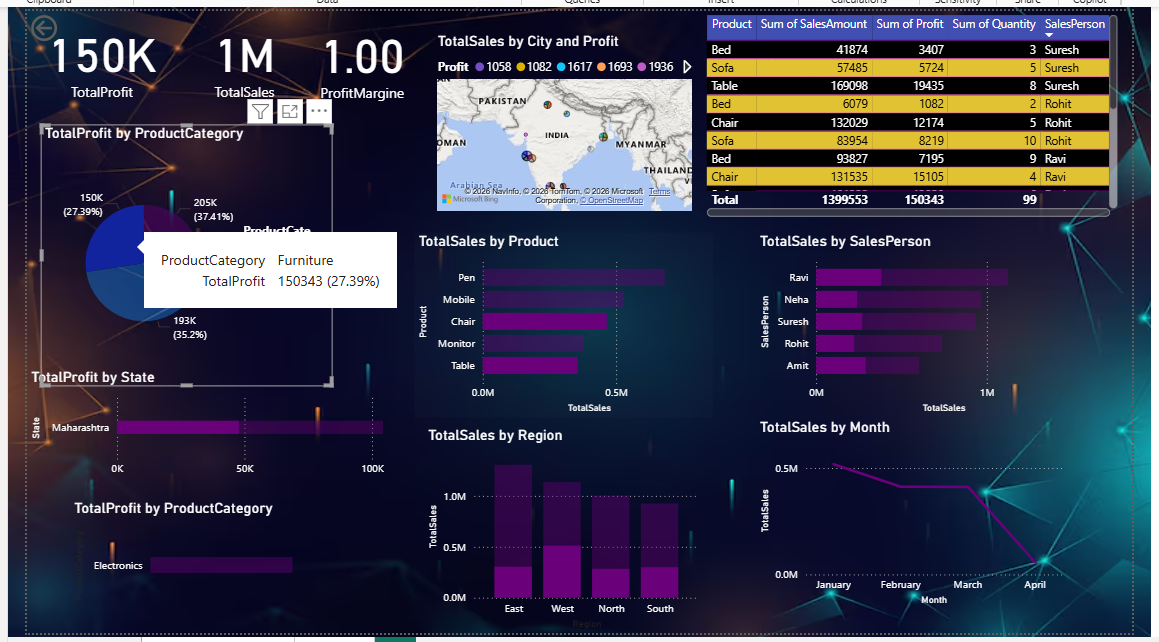

This screenshot's page, from the dashboard's own definition file:
{"tool":"powerbi","page":{"name":"Page 1","canvas":[1280,720],"ordinal":1},"visuals":[{"type":"card","fields":{"Values":["SalesData.TotalProfit"]},"box":[10,0,174.3,110],"z":0},{"type":"card","fields":{"Values":["SalesData.TotalSales"]},"box":[184.3,7.1,134.3,97.1],"z":1000},{"type":"card","fields":{"Values":["SalesData.ProfitMargine"]},"box":[315.7,0,144.3,112.9],"z":2000},{"type":"columnChart","fields":{"Category":["SalesData.Region"],"Y":["SalesData.TotalSales"]},"box":[460,481.4,324.3,238.6],"z":3000},{"type":"barChart","fields":{"Category":["SalesData.Product"],"Y":["SalesData.TotalSales"]},"box":[448.6,257.1,345.7,214.3],"z":4000},{"type":"lineChart","fields":{"Category":["SalesData.OrderDate.Variation.Date Hierarchy.Month"],"Y":["SalesData.TotalSales"]},"box":[857.1,484.3,360,221.4],"z":5000},{"type":"pieChart","fields":{"Y":["SalesData.TotalProfit"],"Category":["SalesData.ProductCategory"]},"box":[15.7,131.4,338.6,302.9],"z":6000},{"type":"tableEx","fields":{"Values":["SalesData.Product","SalesData.SalesAmount","SalesData.Profit","SalesData.Quantity","SalesData.SalesPerson"]},"box":[794.3,0,485.7,242.9],"z":7000},{"type":"actionButton","box":[0,0,100,40],"z":8000},{"type":"map","fields":{"Category":["SalesData.City"],"Series":["SalesData.Profit"],"Size":["SalesData.TotalSales"]},"box":[460,20,304.3,211.4],"z":9000},{"type":"barChart","fields":{"Category":["SalesData.ProductCategory"],"Y":["SalesData.TotalProfit"]},"box":[50,567.1,338.6,124.3],"z":10000},{"type":"barChart","fields":{"Category":["SalesData.State"],"Y":["SalesData.TotalProfit"]},"box":[10,404.3,431.4,134.3],"z":11000},{"type":"barChart","fields":{"Category":["SalesData.SalesPerson"],"Y":["SalesData.TotalSales"]},"box":[844.3,257.1,385.7,214.3],"z":12000}]}

Visuals, with their boxes on the page's 1280x720 design canvas (x1, y1, x2, y2). These are canvas units, not pixel positions in the 1159x642 screenshot, which may show the page scaled, cropped or inside an application window:
card - SalesData.TotalProfit: Rect(10, 0, 184, 110)
card - SalesData.TotalSales: Rect(184, 7, 319, 104)
card - SalesData.ProfitMargine: Rect(316, 0, 460, 113)
columnChart - SalesData.Region x SalesData.TotalSales: Rect(460, 481, 784, 720)
barChart - SalesData.Product x SalesData.TotalSales: Rect(449, 257, 794, 471)
lineChart - SalesData.OrderDate.Variation.Date Hierarchy.Month x SalesData.TotalSales: Rect(857, 484, 1217, 706)
pieChart - SalesData.TotalProfit x SalesData.ProductCategory: Rect(16, 131, 354, 434)
tableEx - SalesData.Product x SalesData.SalesAmount: Rect(794, 0, 1280, 243)
actionButton: Rect(0, 0, 100, 40)
map - SalesData.City x SalesData.Profit: Rect(460, 20, 764, 231)
barChart - SalesData.ProductCategory x SalesData.TotalProfit: Rect(50, 567, 389, 691)
barChart - SalesData.State x SalesData.TotalProfit: Rect(10, 404, 441, 539)
barChart - SalesData.SalesPerson x SalesData.TotalSales: Rect(844, 257, 1230, 471)
